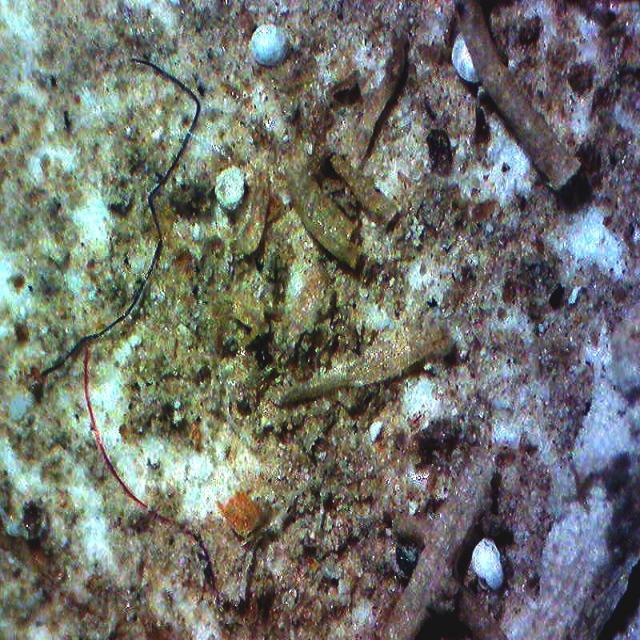microplastic: (30, 57, 201, 394), (84, 348, 217, 591)
